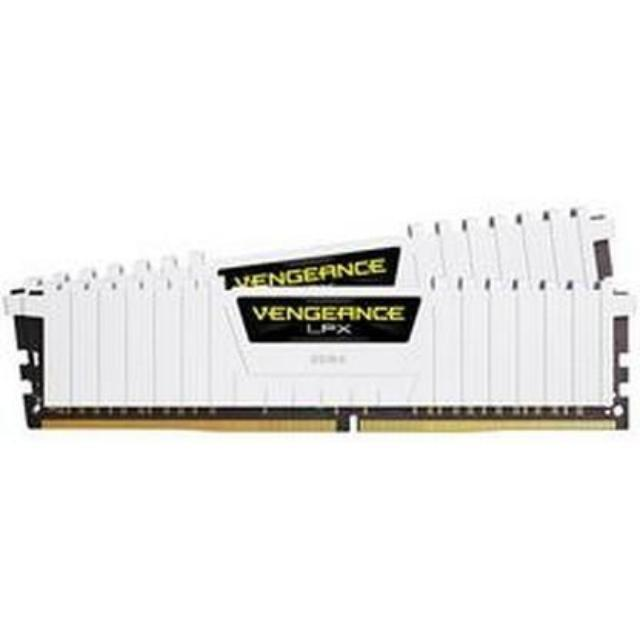RAM: (8, 202, 640, 454)
